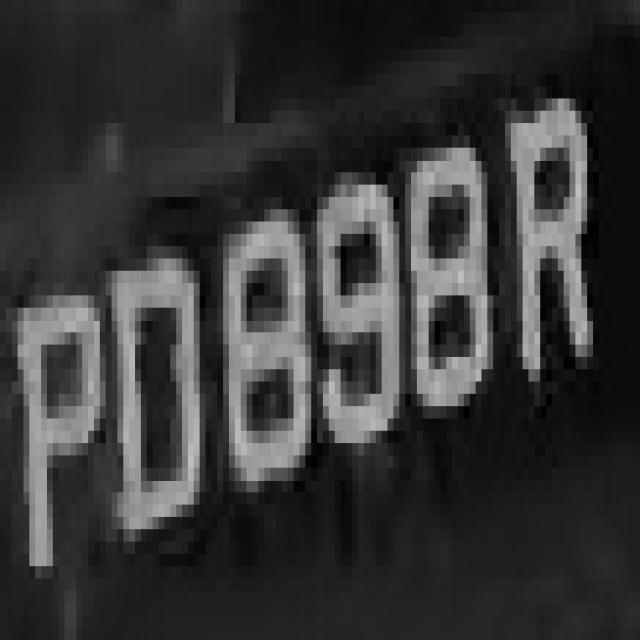8: (211, 185, 317, 504), (405, 86, 493, 443)
9: (305, 148, 417, 480)
D: (100, 234, 211, 578)
P: (6, 271, 117, 603)
R: (510, 74, 610, 406)
